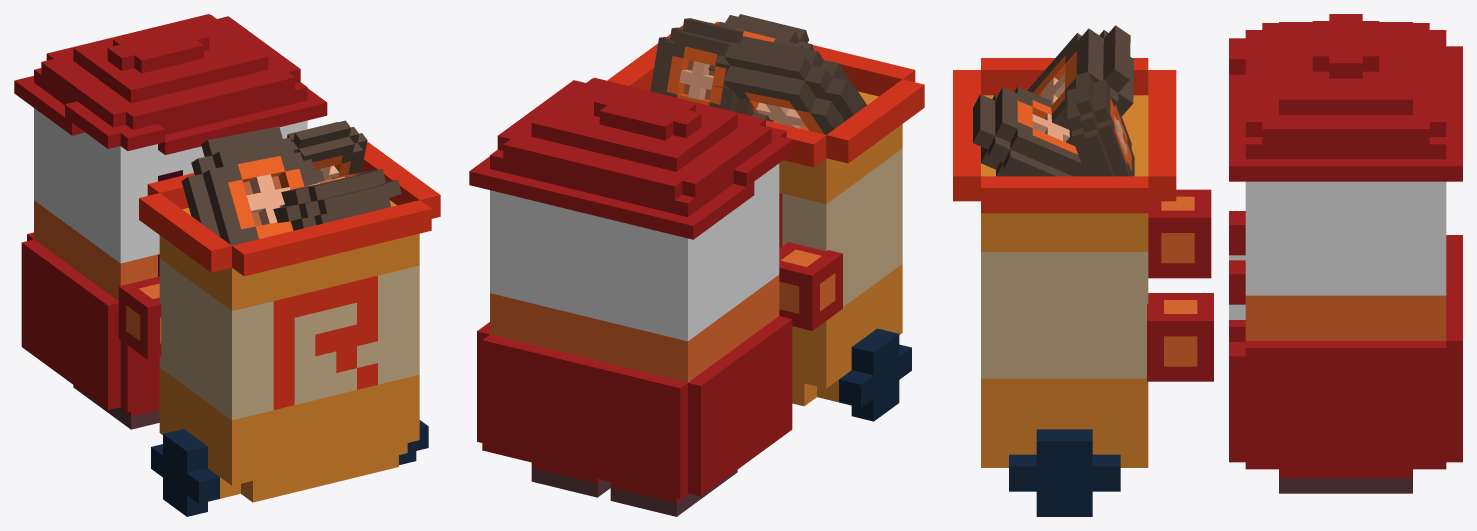
Rendered from p4RubConDizzy.gltf.
3 views of the same model, side by side, from view 1: azimuth 30°, elevation 25°; view 2: azimuth 150°, elevation 25°; view 3: azimuth 270°, elevation 25° (orthographic). The views are drawn at different scales.
Visible parts, largest first — view 1: Yup2Zup.001; view 2: Yup2Zup.001; view 3: Yup2Zup.001.
Part boxes in pixels (x1,y1,x2,y2): Yup2Zup.001: (14, 14, 440, 516); Yup2Zup.001: (469, 14, 924, 516); Yup2Zup.001: (953, 14, 1462, 516).
Bounding box in the file's own units: 1.92 × 2.7 × 3.05.
7 materials, 7 textured.
